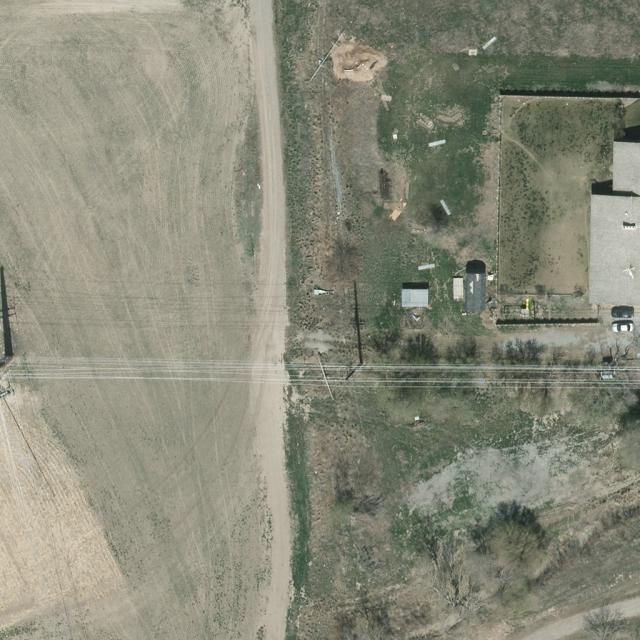vehicle: (612, 308, 636, 318), (610, 322, 634, 332)
